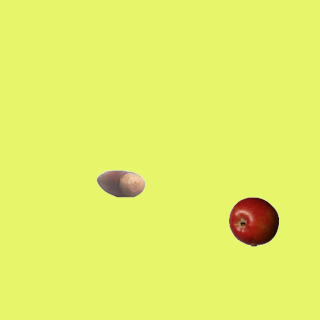Apple Braeburn: (228, 196, 278, 246)
Hazelnut: (95, 158, 145, 208)
